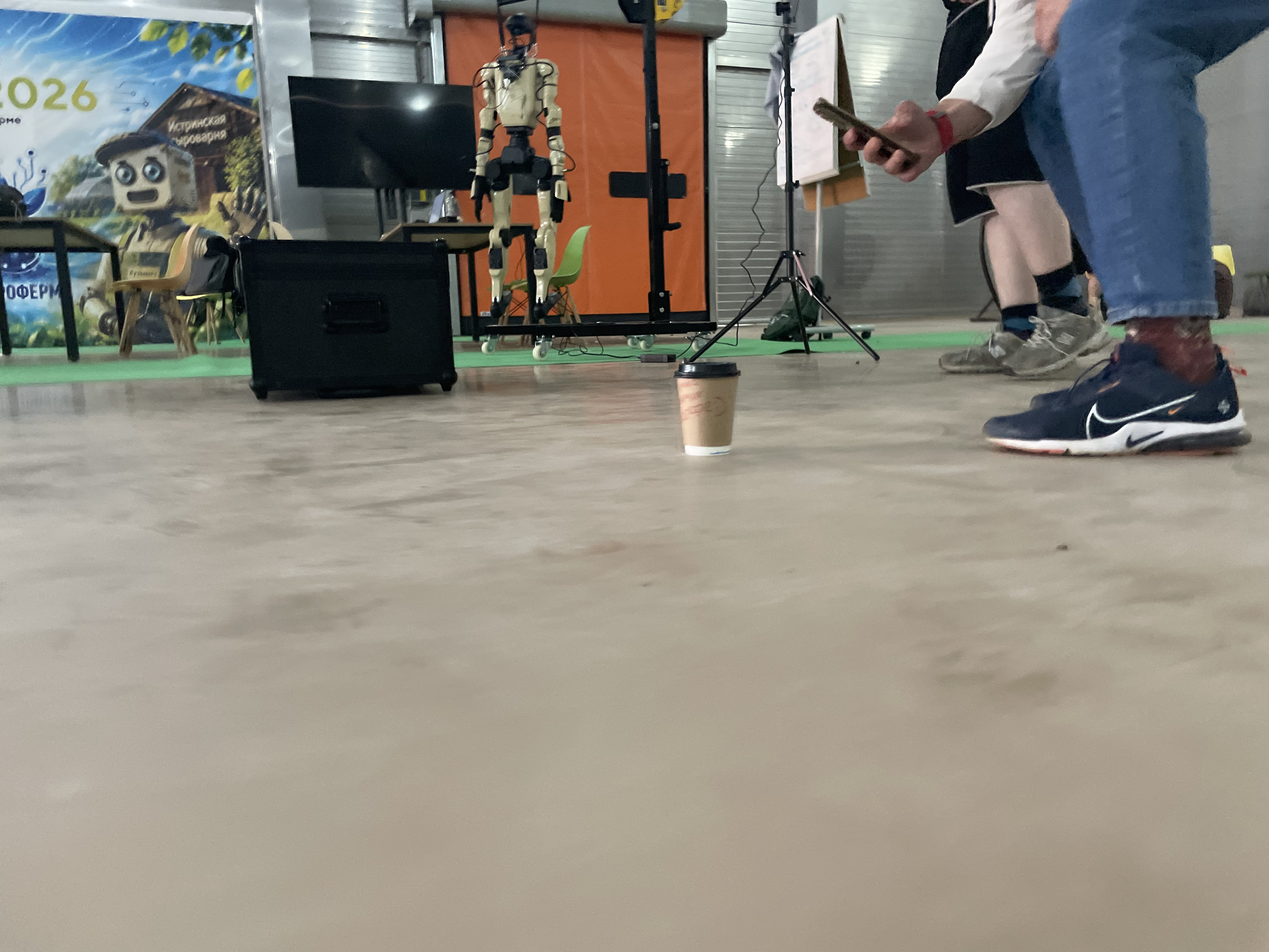cup: (674, 358, 741, 456)
